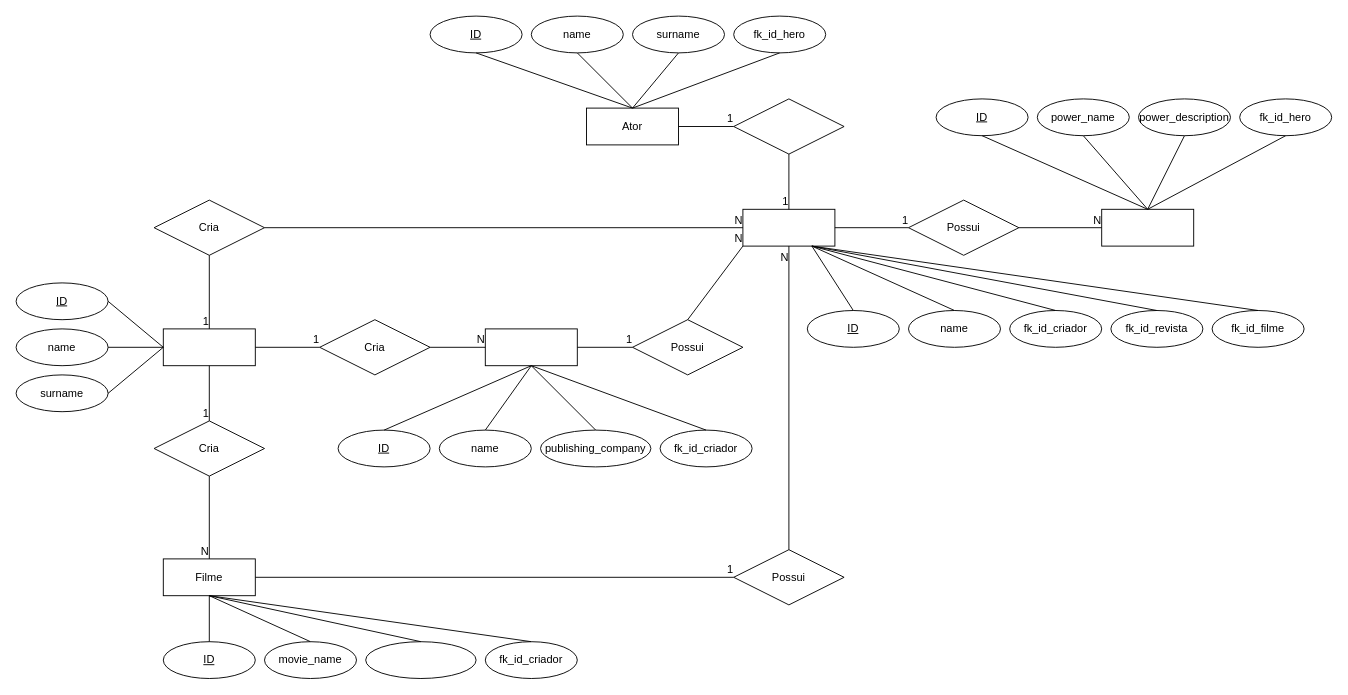
The diagram is 1348 pixels wide and 695 high, and some of its shapes have lost their labels. The box of each missing label's shape, as (x1, y1, x2, y2) in pixels:
Criador: (162, 328, 255, 366)
Heroi: (742, 208, 835, 246)
Interpreta: (733, 98, 844, 154)
Poder: (1101, 208, 1194, 246)
release_year: (365, 641, 476, 678)
Revista: (484, 328, 577, 366)
